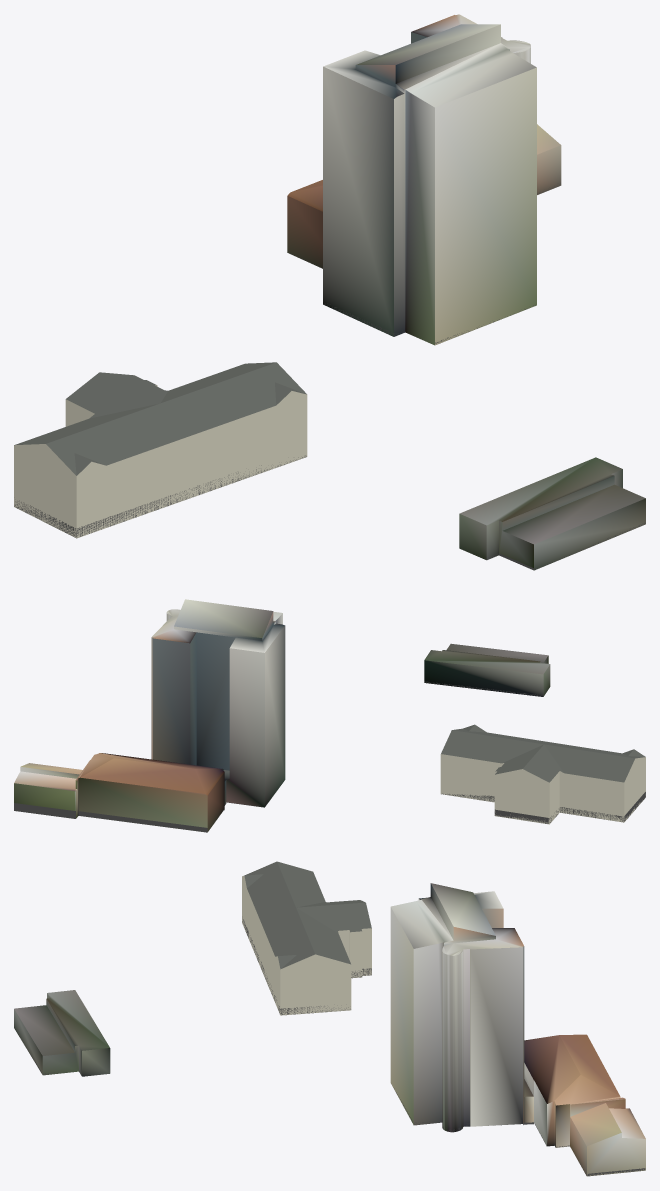
3 views of the same model, one above another, from view 1: azimuth 30°, elevation 25°; view 2: azimuth 150°, elevation 25°; view 3: azimuth 270°, elevation 25° (orthographic). The views are drawn at different scales.
Parts seen in each view (by area): view 1: c_m15_m07; view 2: c_m15_m07; view 3: c_m15_m07.
Boxes of the visible parts, box(x1,y1,x2,y2) form: c_m15_m07: box(14, 14, 645, 570); c_m15_m07: box(14, 599, 645, 832); c_m15_m07: box(14, 861, 645, 1176).
Bounding box in the file's own units: 121 × 42.8 × 122.
